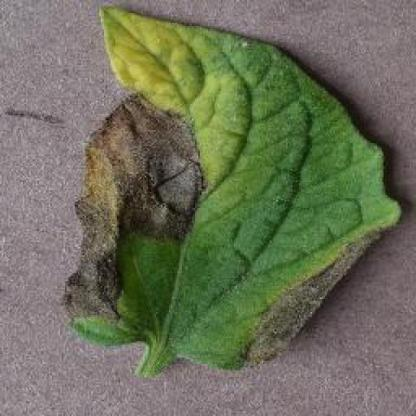Tomato_Blight: (64, 7, 398, 368)
